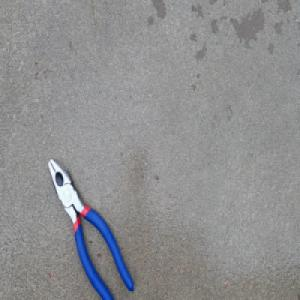Pliers: (48, 157, 136, 300)
